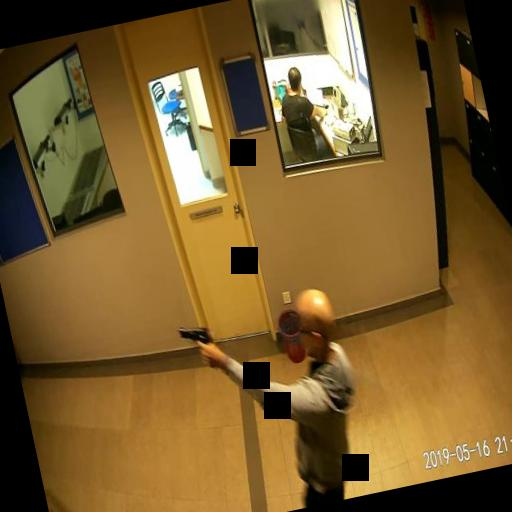Handgun: (177, 321, 213, 369)
